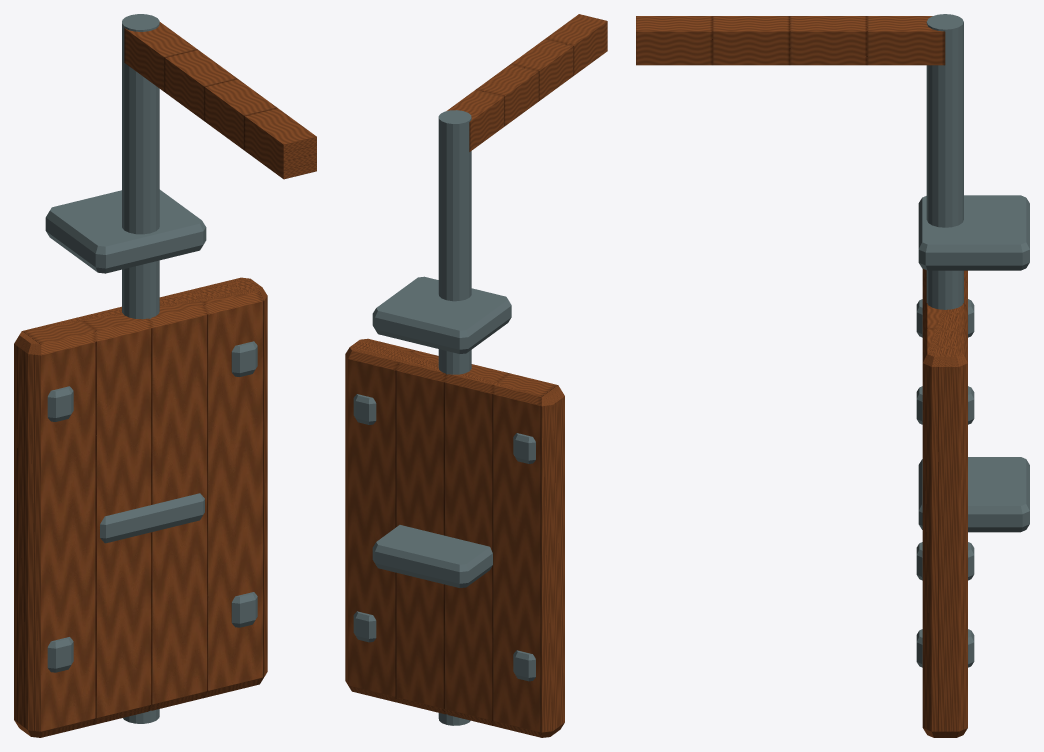
File: ocean-raft-settlement-ocean-raft-settlement-rudder-ass-aeb7ead7__28910.glb
The picture shows the model from 3 angles, left to right: view 1: azimuth 30°, elevation 25°; view 2: azimuth 150°, elevation 25°; view 3: azimuth 270°, elevation 25°; orthographic projection. The views are drawn at different scales.
Parts seen in each view (by area): view 1: wood, iron; view 2: wood, iron; view 3: wood, iron.
Part boxes in pixels (x1,y1,x2,y2): wood: (14,22,316,737); iron: (45,14,257,723); wood: (345,14,607,737); iron: (353,110,535,725); wood: (636,16,967,737); iron: (916,14,1029,667).
Size of the model in its own units: 0.6501 by 1.8 by 0.955.
Materials: 2 (1 with a texture image).
